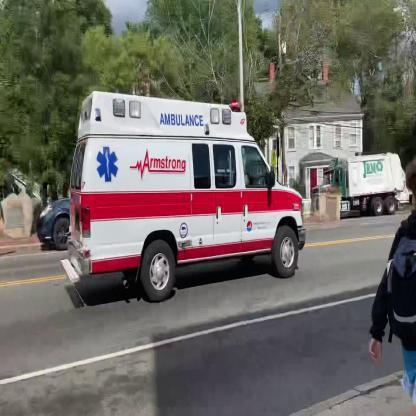ambulance_off: (63, 89, 305, 302)
